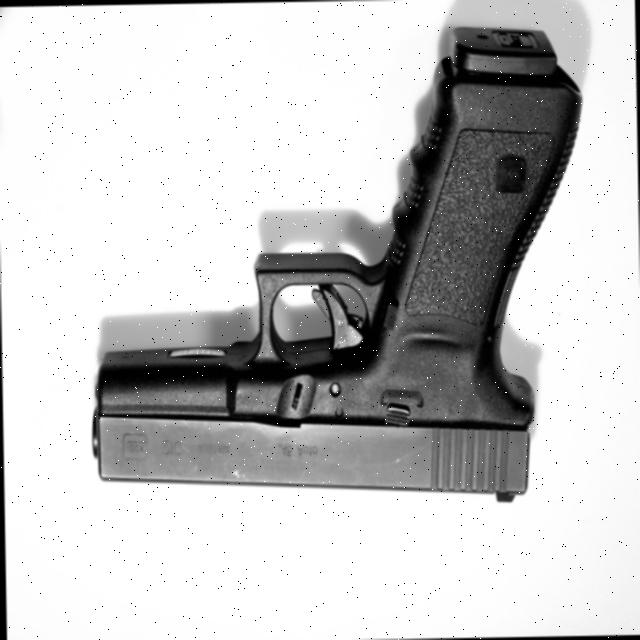Handgun: (71, 11, 586, 528)
